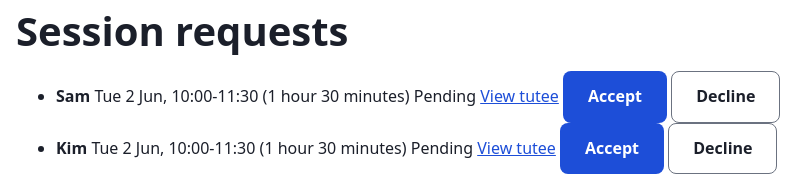
Test: SessionRequestsPage › announces how many overlapping requests were declined
Click the button "Accept" in the row of "Sam" at (615, 97), box [563,71,667,123]
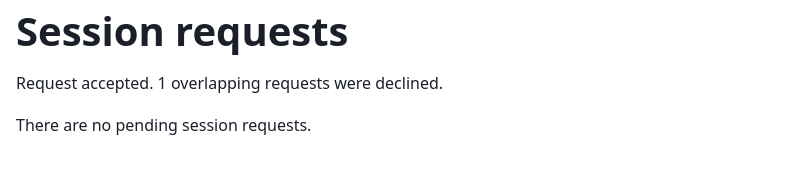
expect the text "Request accepted. 1 overlapping requests were declined." is shown: met, box [16,72,443,94]
